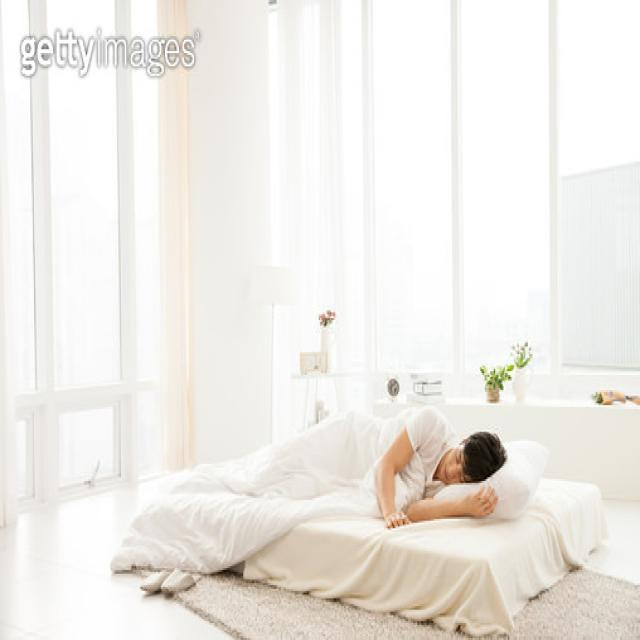sleeping-person: (152, 377, 508, 543)
